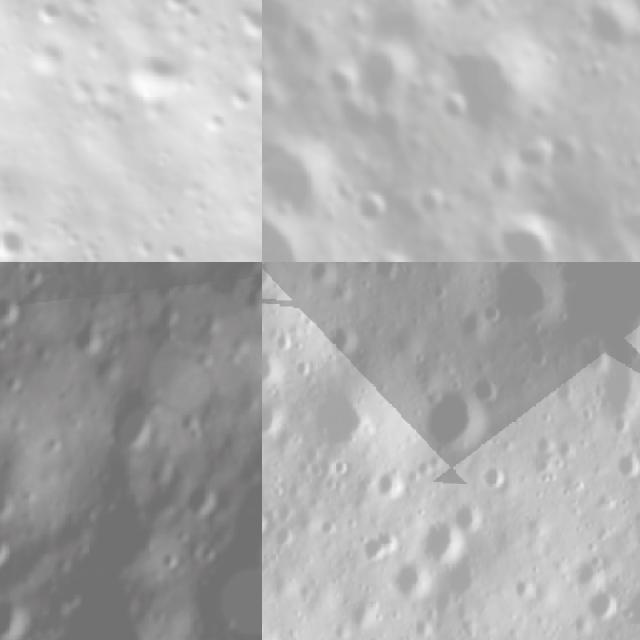crater: (114, 32, 194, 116), (417, 385, 499, 460), (76, 581, 170, 640), (311, 381, 388, 446), (491, 204, 562, 262), (102, 394, 162, 461), (416, 516, 472, 566), (584, 0, 640, 49), (386, 555, 436, 606), (136, 446, 182, 494), (348, 186, 394, 232), (21, 0, 77, 36), (220, 0, 262, 47), (512, 132, 557, 174), (185, 474, 225, 521), (150, 0, 205, 34), (0, 207, 32, 262), (437, 85, 477, 127), (90, 350, 130, 390), (467, 371, 505, 411), (449, 495, 487, 535), (584, 583, 620, 625), (411, 182, 449, 221), (320, 70, 360, 106), (0, 595, 32, 640), (135, 262, 201, 283), (323, 324, 359, 361), (188, 305, 222, 341), (150, 297, 184, 333), (221, 327, 255, 363), (477, 165, 514, 198), (262, 399, 291, 441), (72, 320, 104, 358), (304, 262, 343, 292), (238, 262, 262, 310), (479, 460, 513, 493), (53, 584, 88, 616), (613, 207, 640, 248), (175, 406, 209, 438), (611, 445, 640, 482), (619, 582, 640, 633), (195, 537, 226, 569), (368, 244, 419, 262), (432, 0, 479, 18), (0, 528, 16, 579), (0, 293, 20, 333), (262, 347, 282, 387), (479, 300, 508, 326), (152, 548, 178, 576), (21, 268, 46, 292), (427, 279, 452, 303), (0, 484, 13, 525), (317, 516, 341, 537), (262, 262, 277, 295), (49, 627, 84, 640), (262, 503, 274, 538)
